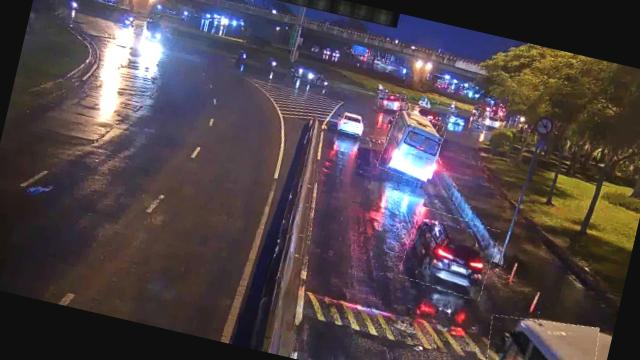Bus: (475, 307, 605, 360), (377, 107, 447, 185)
Car: (399, 206, 501, 300), (331, 106, 368, 140), (376, 91, 406, 113)
